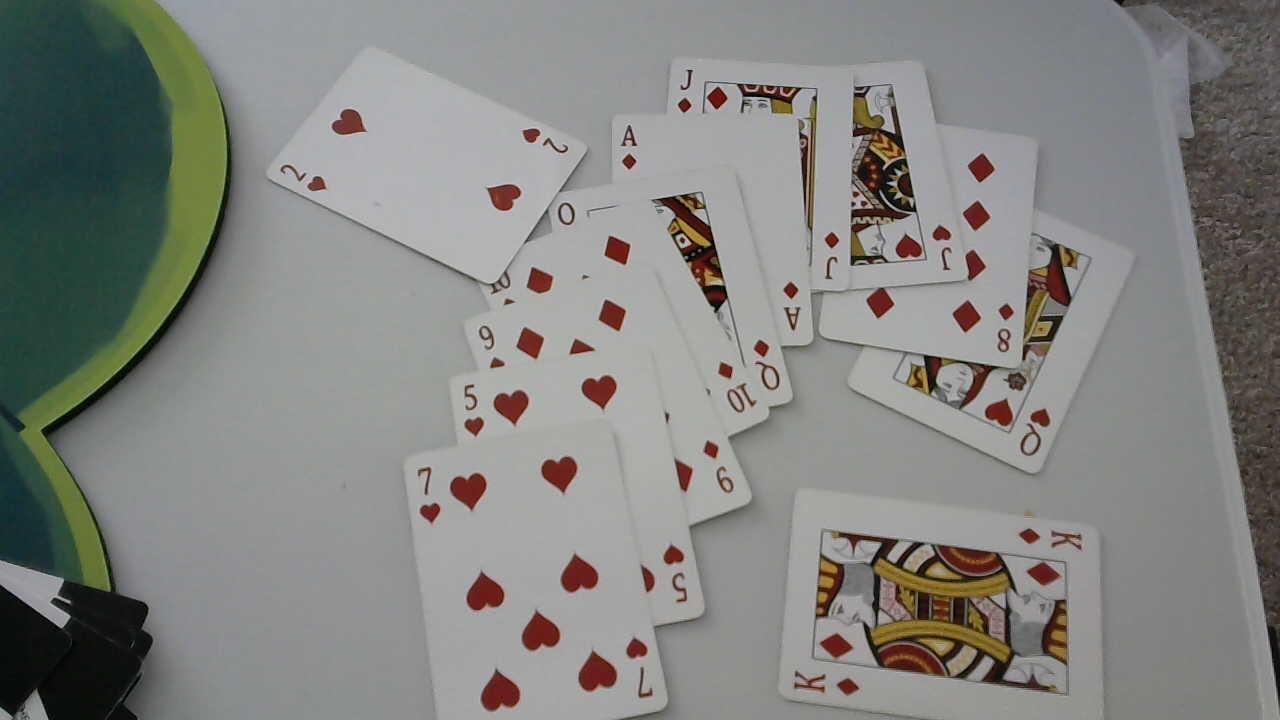10D: (713, 357, 759, 415)
2H: (518, 122, 570, 155), (281, 161, 330, 194)
5H: (660, 537, 692, 605), (460, 382, 484, 438)
7H: (624, 634, 654, 700), (413, 466, 444, 524)
8D: (995, 296, 1016, 356)
9D: (700, 436, 740, 494)
AD: (780, 280, 804, 333), (618, 122, 640, 171)
JD: (674, 68, 696, 113), (822, 230, 841, 282)
JH: (930, 224, 954, 273)
KD: (791, 666, 863, 696), (1015, 525, 1091, 550)
QD: (752, 338, 780, 394)
QH: (1019, 404, 1052, 457)
